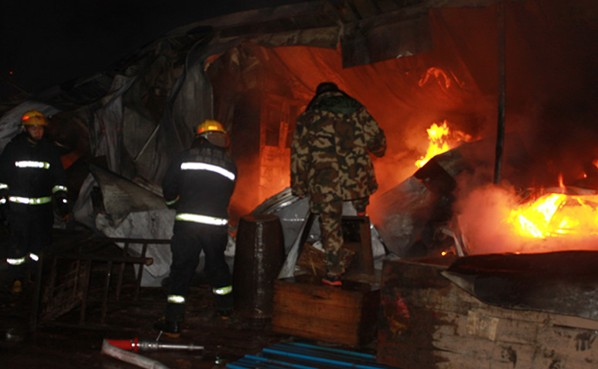fire: (502, 182, 595, 237), (418, 112, 455, 169)
